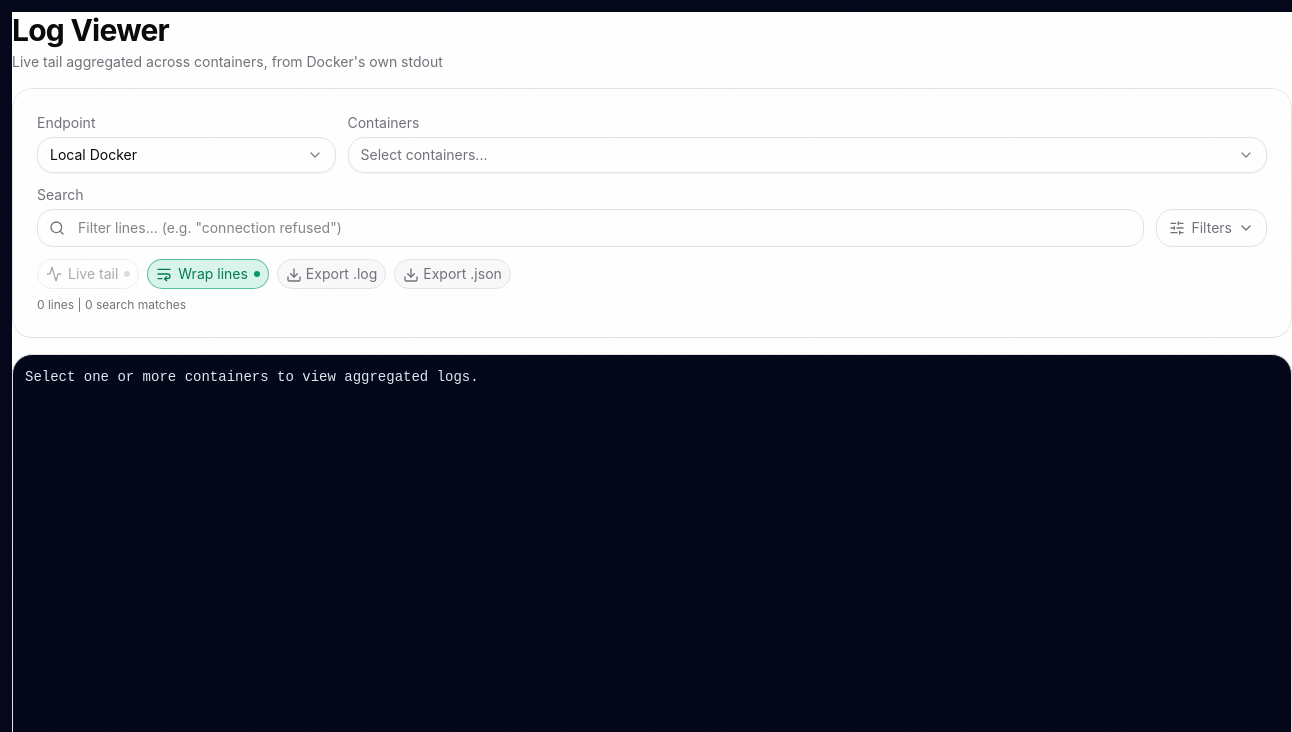
it: LogViewerPage › advanced filter disclosure › hides Level, Trace ID and Buffer until Filters is opened
Expected: the text "Level" is not shown
Expected: the text "Buffer" is not shown
Click the button "Filters". click: (1212, 228)
box: [1156,209,1267,247]
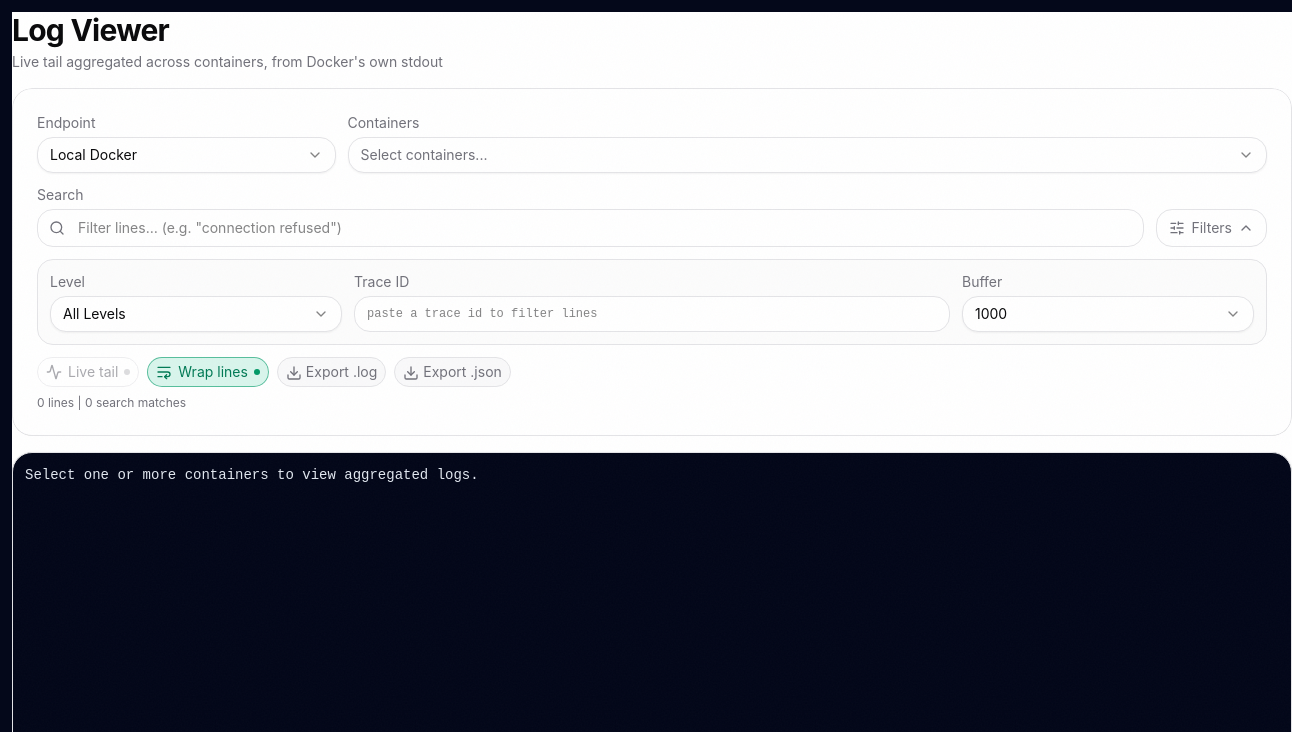
Now the field named "Trace ID filter" is shown, box [354,296,950,332]
Now the text "Level" is shown, box [50,273,85,290]
Now the text "Buffer" is shown, box [962,273,1002,290]
